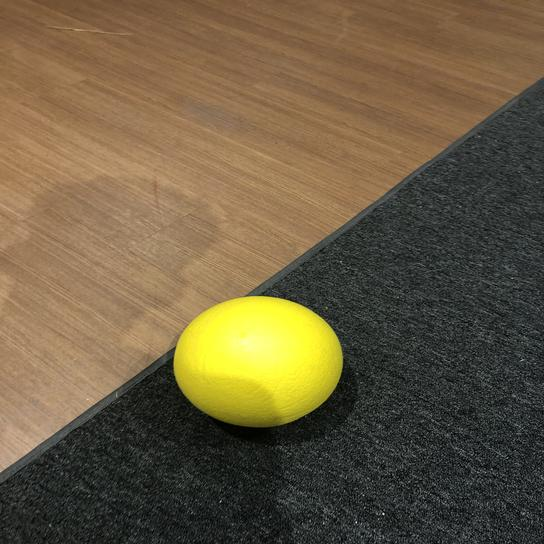ball: (171, 291, 346, 432)
